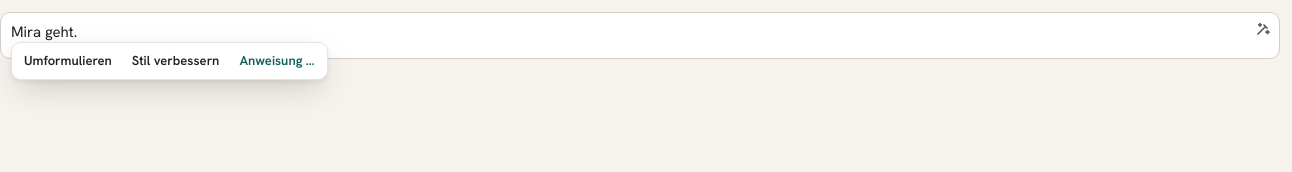
MagicWand on a ProseField › toolbar over selected text › appears for a selection and rephrases only the selection
The image size is (1292, 172).
Expected: the element named "KI für die Markierung" is shown, [11,42,328,80]
Click the button "Umformulieren". click: (68, 61)
box: [15,46,121,76]
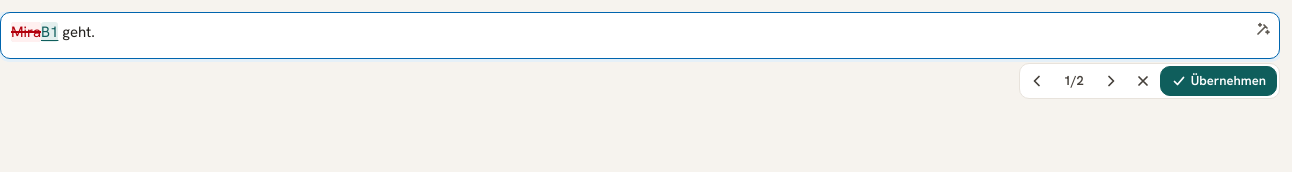
Expected: the text box with class "cm-ai-del" reads "Mira", [11,22,41,42]
Expected: the text "1/2" is shown, [1064,72,1084,89]
